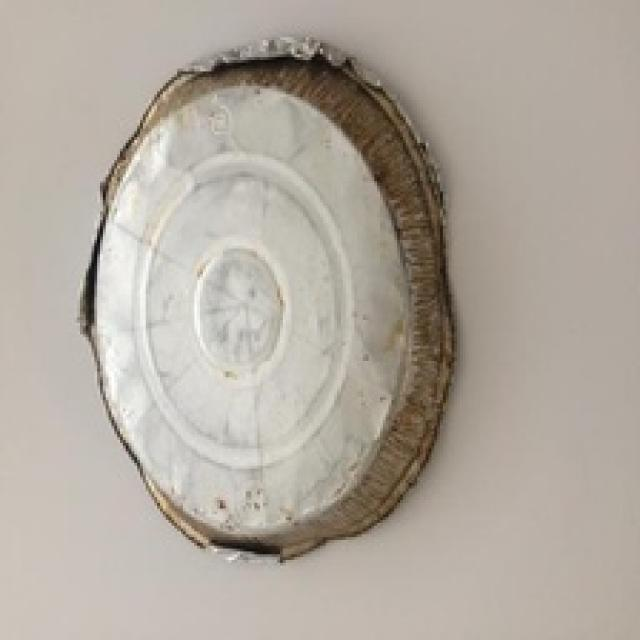recyclable: (79, 35, 456, 562)
